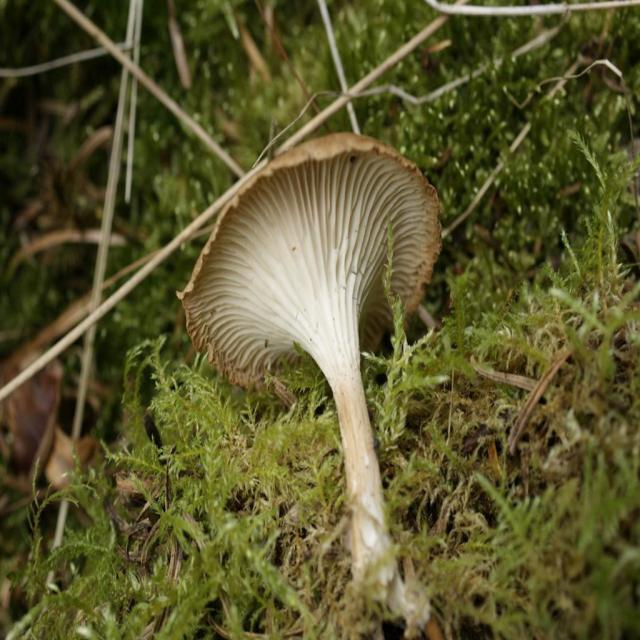Clitocybe maxima: (175, 132, 442, 583)
